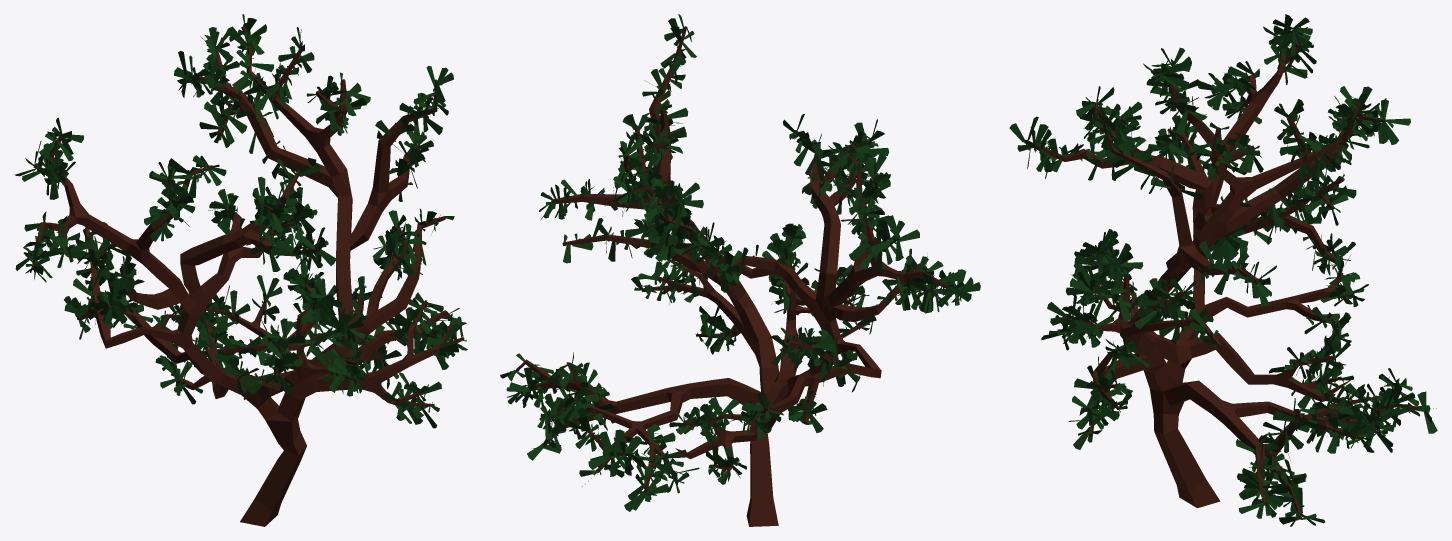
The model's file is Arbol1 1.fbx.
3 renders of one model, left to right at view 1: azimuth 30°, elevation 25°; view 2: azimuth 150°, elevation 25°; view 3: azimuth 270°, elevation 25°, orthographic. The views are drawn at different scales.
Parts seen in each view (by area): view 1: Arbol1; view 2: Arbol1; view 3: Arbol1.
Part boxes in pixels (x1,y1,x2,y2): Arbol1: (32,26,464,526); Arbol1: (515,26,949,526); Arbol1: (1024,29,1421,519).
Size of the model in its own units: 1143 by 1055 by 889.
